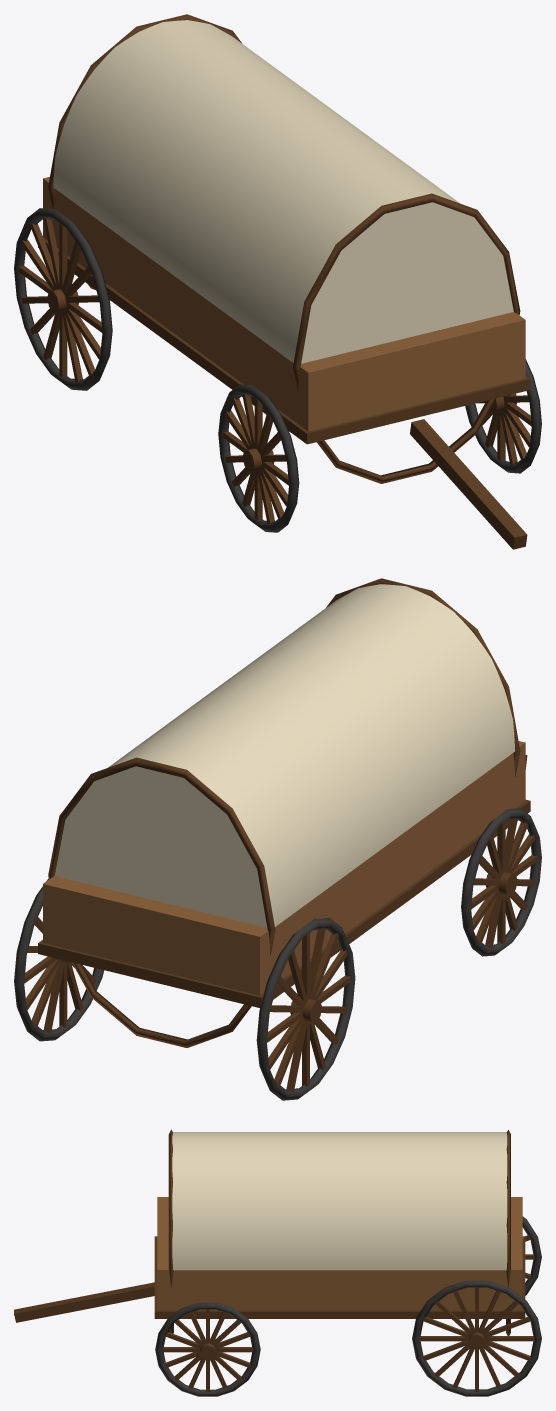
File: covered_wagon.glb
The picture shows the model from 3 angles, top to bottom: view 1: azimuth 30°, elevation 25°; view 2: azimuth 150°, elevation 25°; view 3: azimuth 270°, elevation 25°; orthographic projection. The views are drawn at different scales.
Visible parts, largest first — view 1: covered_wagon; view 2: covered_wagon; view 3: covered_wagon.
Boxes of the visible parts, x1,y1,x2,y2 form: covered_wagon: [14, 14, 541, 549]; covered_wagon: [14, 578, 541, 1100]; covered_wagon: [14, 1129, 541, 1396].
Bounding box in the file's own units: 2.06 × 2.37 × 5.19.
